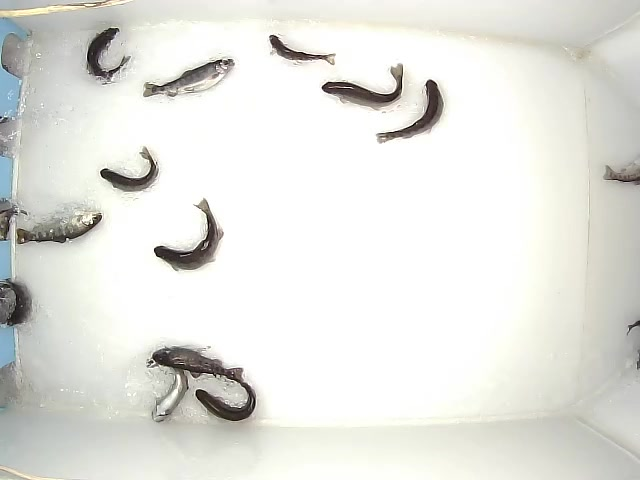fish: (152, 197, 225, 273), (375, 77, 445, 145), (321, 62, 404, 112), (141, 58, 236, 100), (152, 347, 244, 383), (194, 370, 257, 422), (145, 356, 191, 424), (15, 210, 104, 245), (97, 144, 159, 193), (84, 26, 132, 81), (267, 34, 337, 68)
